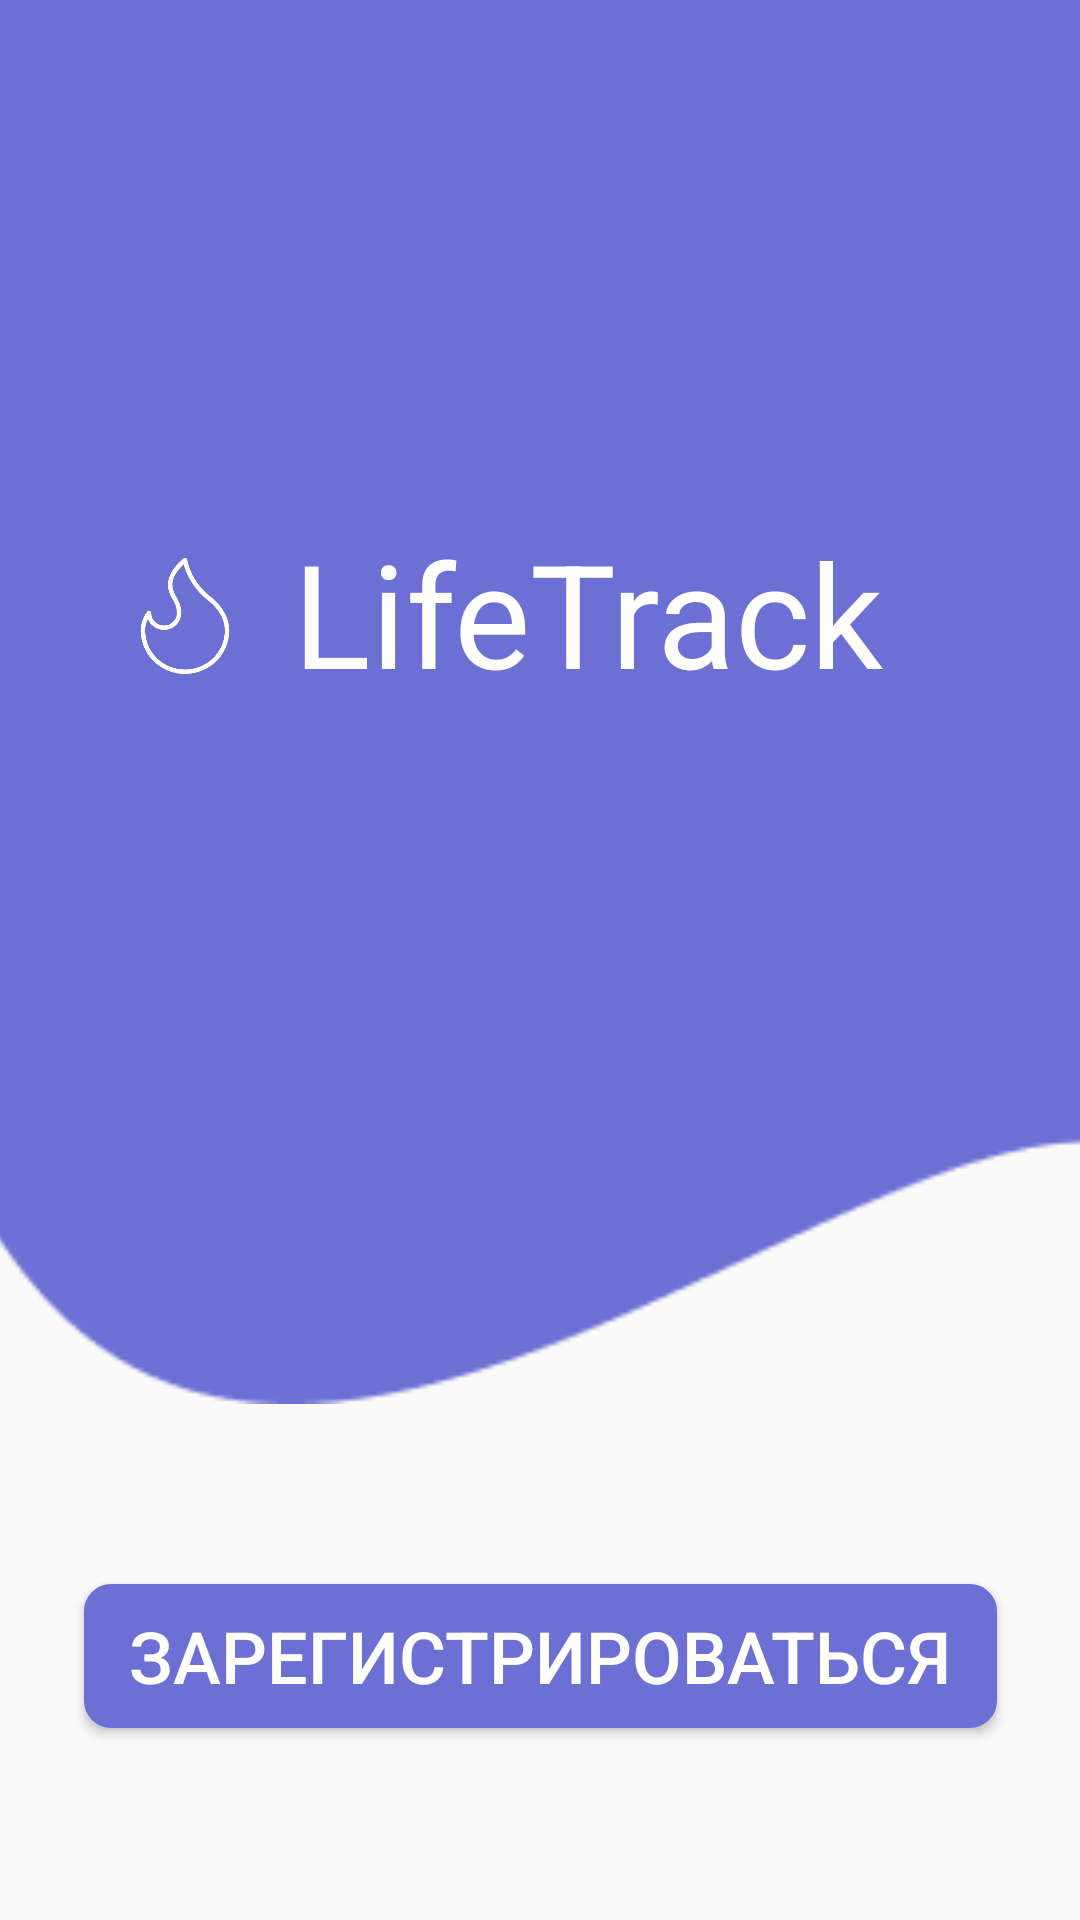

Where to tap for icons on this 1080w x 1920h app screen, as (x,y):
flame: (185,616)
